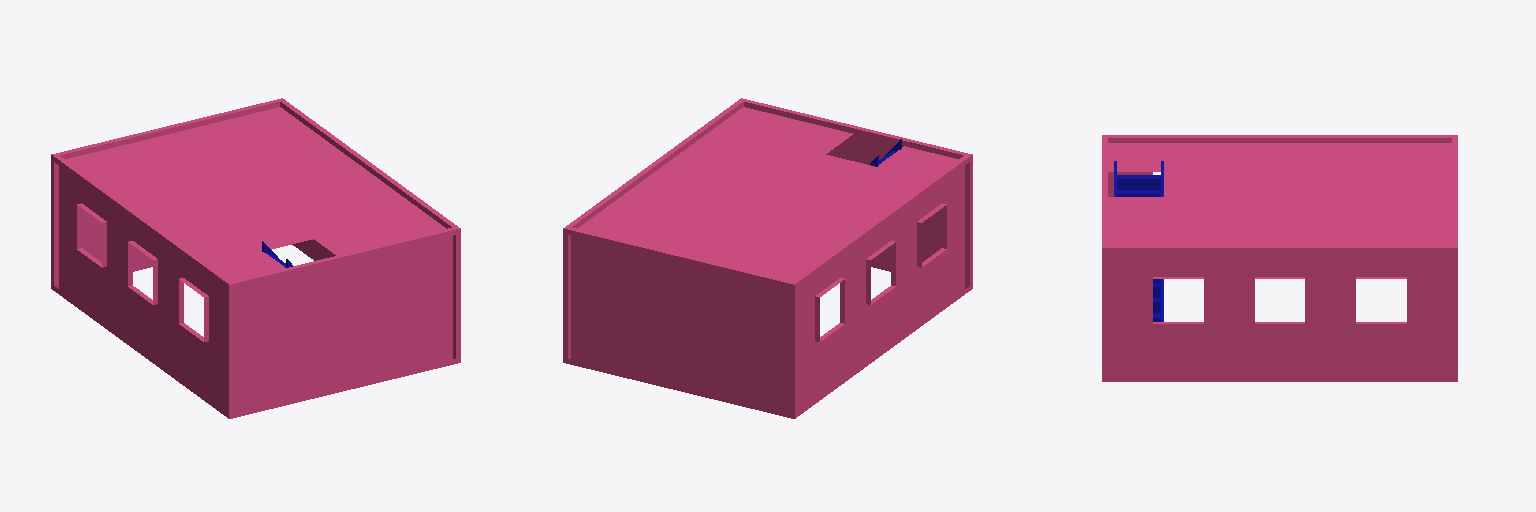
File: roomWithStairs_noFloor.obj
The picture shows the model from 3 angles: view 1: azimuth 30°, elevation 25°; view 2: azimuth 150°, elevation 25°; view 3: azimuth 270°, elevation 25°; orthographic projection.
Parts seen in each view (by area): view 1: Box001; view 2: Box001; view 3: Box001, StraightStair001.
Part boxes in pixels (x1,y1,x2,y2): Box001: (51,98,460,418); Box001: (563,98,972,418); Box001: (1102,135,1457,381); StraightStair001: (1114,161,1163,321).
Size of the model in its own units: 90 by 52 by 120.